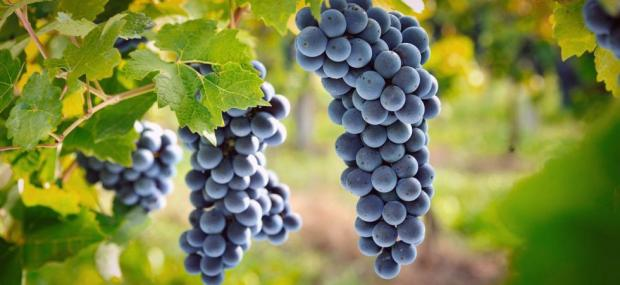Black grapes: (312, 7, 443, 281), (177, 67, 297, 280), (83, 116, 174, 212)
